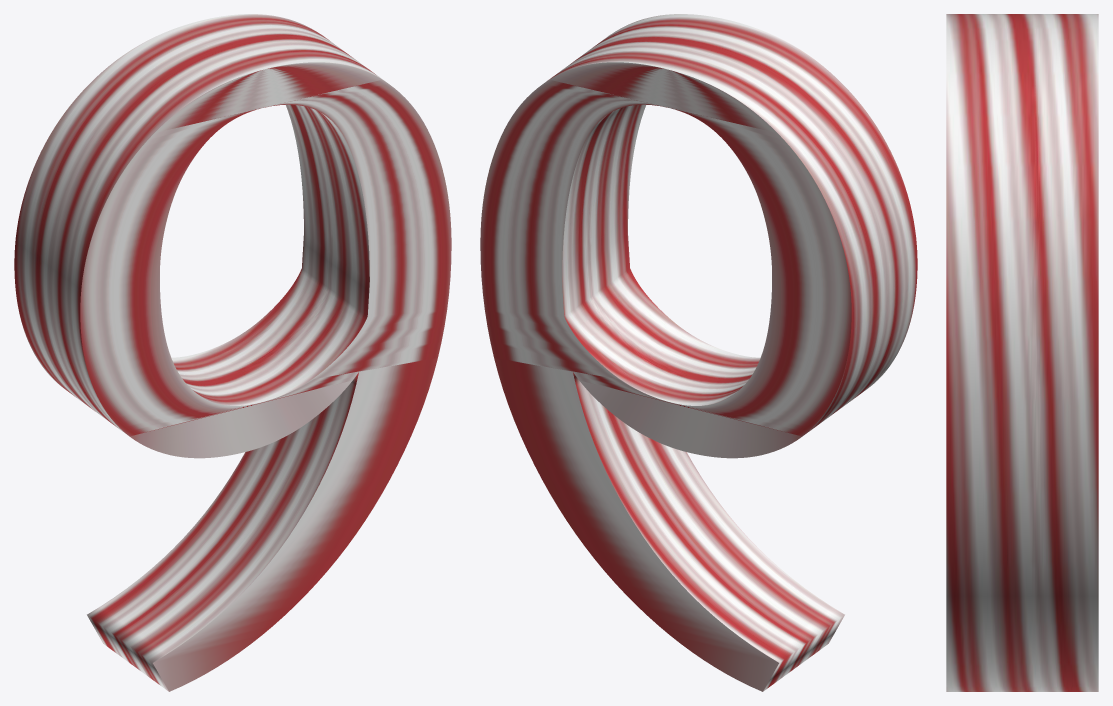
3 views of the same model, side by side, from view 1: azimuth 30°, elevation 25°; view 2: azimuth 150°, elevation 25°; view 3: azimuth 270°, elevation 25° (orthographic). The views are drawn at different scales.
Visible parts, largest first — view 1: Text.010; view 2: Text.010; view 3: Text.010.
Boxes of the visible parts, x1,y1,x2,y2 form: Text.010: (14,14,451,691); Text.010: (480,14,917,691); Text.010: (946,14,1098,691).
Bounding box in the file's own units: 0.3904 × 0.6021 × 0.12.
1 material, 1 textured.
